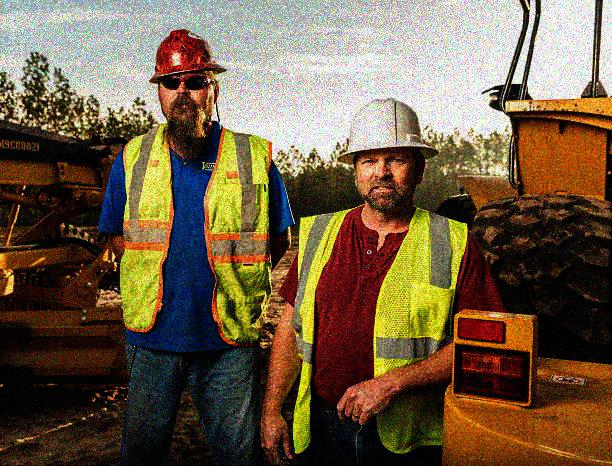helmet: (335, 96, 438, 210), (149, 27, 227, 130)
